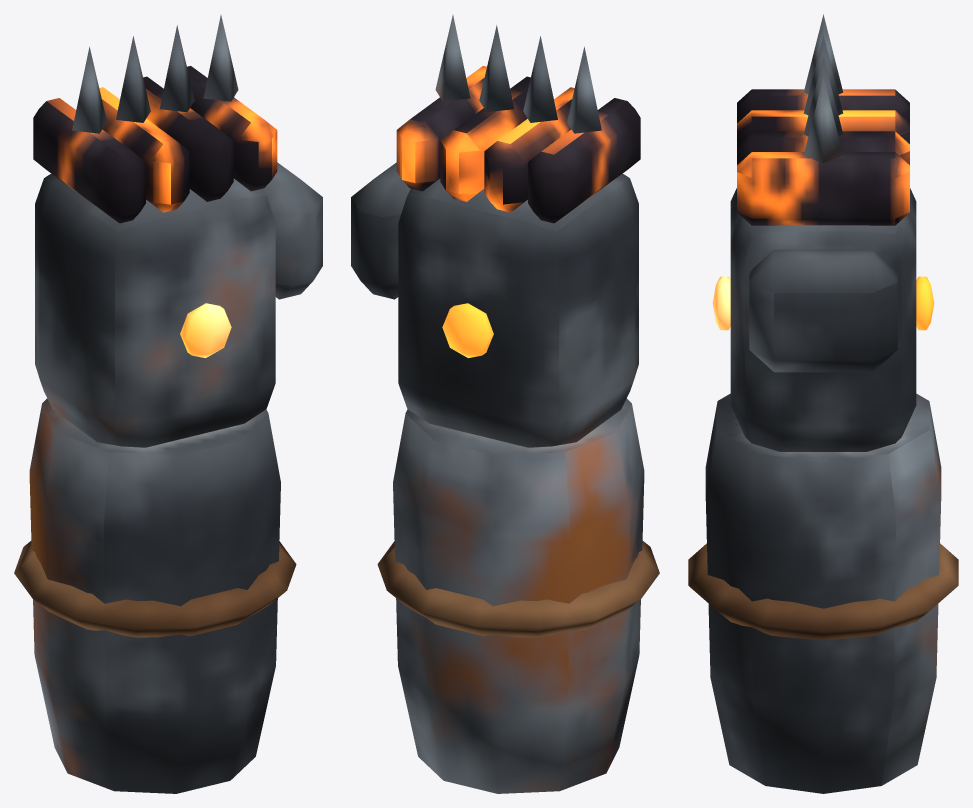
File: EmberKnuckles.fbx
3 renders of one model, left to right at view 1: azimuth 30°, elevation 25°; view 2: azimuth 150°, elevation 25°; view 3: azimuth 270°, elevation 25°, orthographic. The views are drawn at different scales.
Parts seen in each view (by area): view 1: EmberKnuckles; view 2: EmberKnuckles; view 3: EmberKnuckles.
Part boxes in pixels (x1,y1,x2,y2): EmberKnuckles: (14, 15, 322, 793); EmberKnuckles: (351, 15, 659, 793); EmberKnuckles: (688, 14, 958, 793).
Size of the model in its own units: 0.1634 by 0.4253 by 0.1474.
